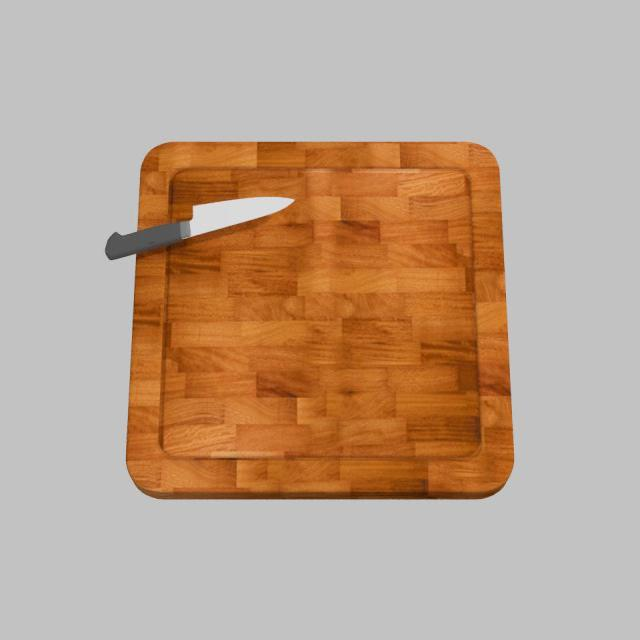knife: (105, 222, 183, 260)
